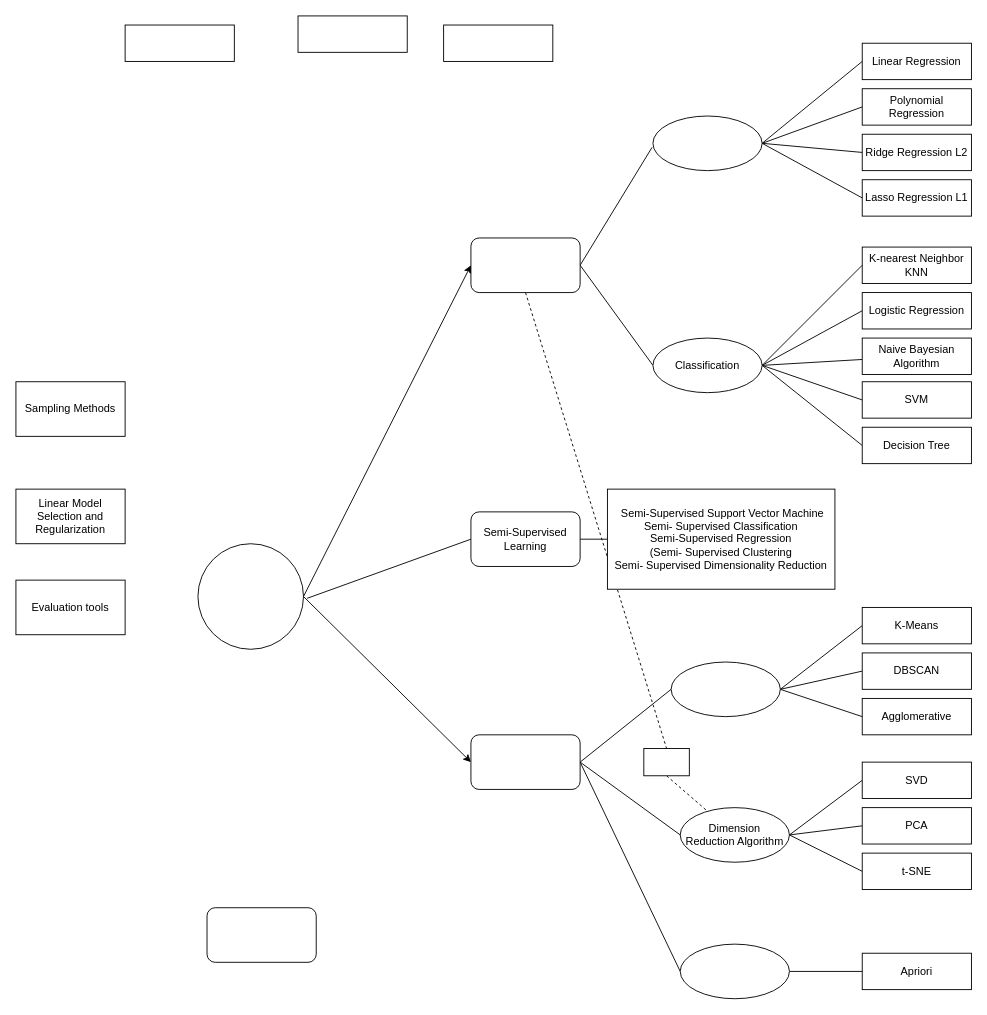
Image size: 987x1015. Some labels were removed from this diagram. Here are the shapes that lost their labels. From the top down, the box of each, then its label:
(652, 115, 762, 171): Regression
(470, 237, 580, 293): Supervised Learning
(197, 543, 303, 649): Machine Learning
(670, 661, 780, 717): Clustering
(470, 734, 580, 789): Unsupervised Learning
(643, 748, 689, 776): LDA
(206, 907, 316, 962): Reinforced Learning
(679, 943, 789, 999): Association Rule Learning
